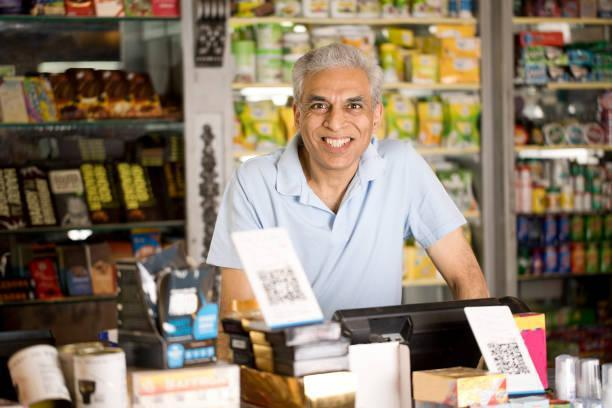qr_code: (256, 266, 307, 305), (487, 342, 530, 374)
